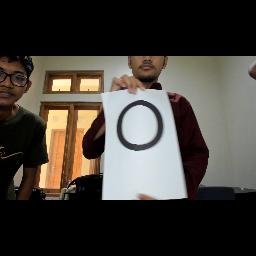o: (106, 98, 170, 162)
